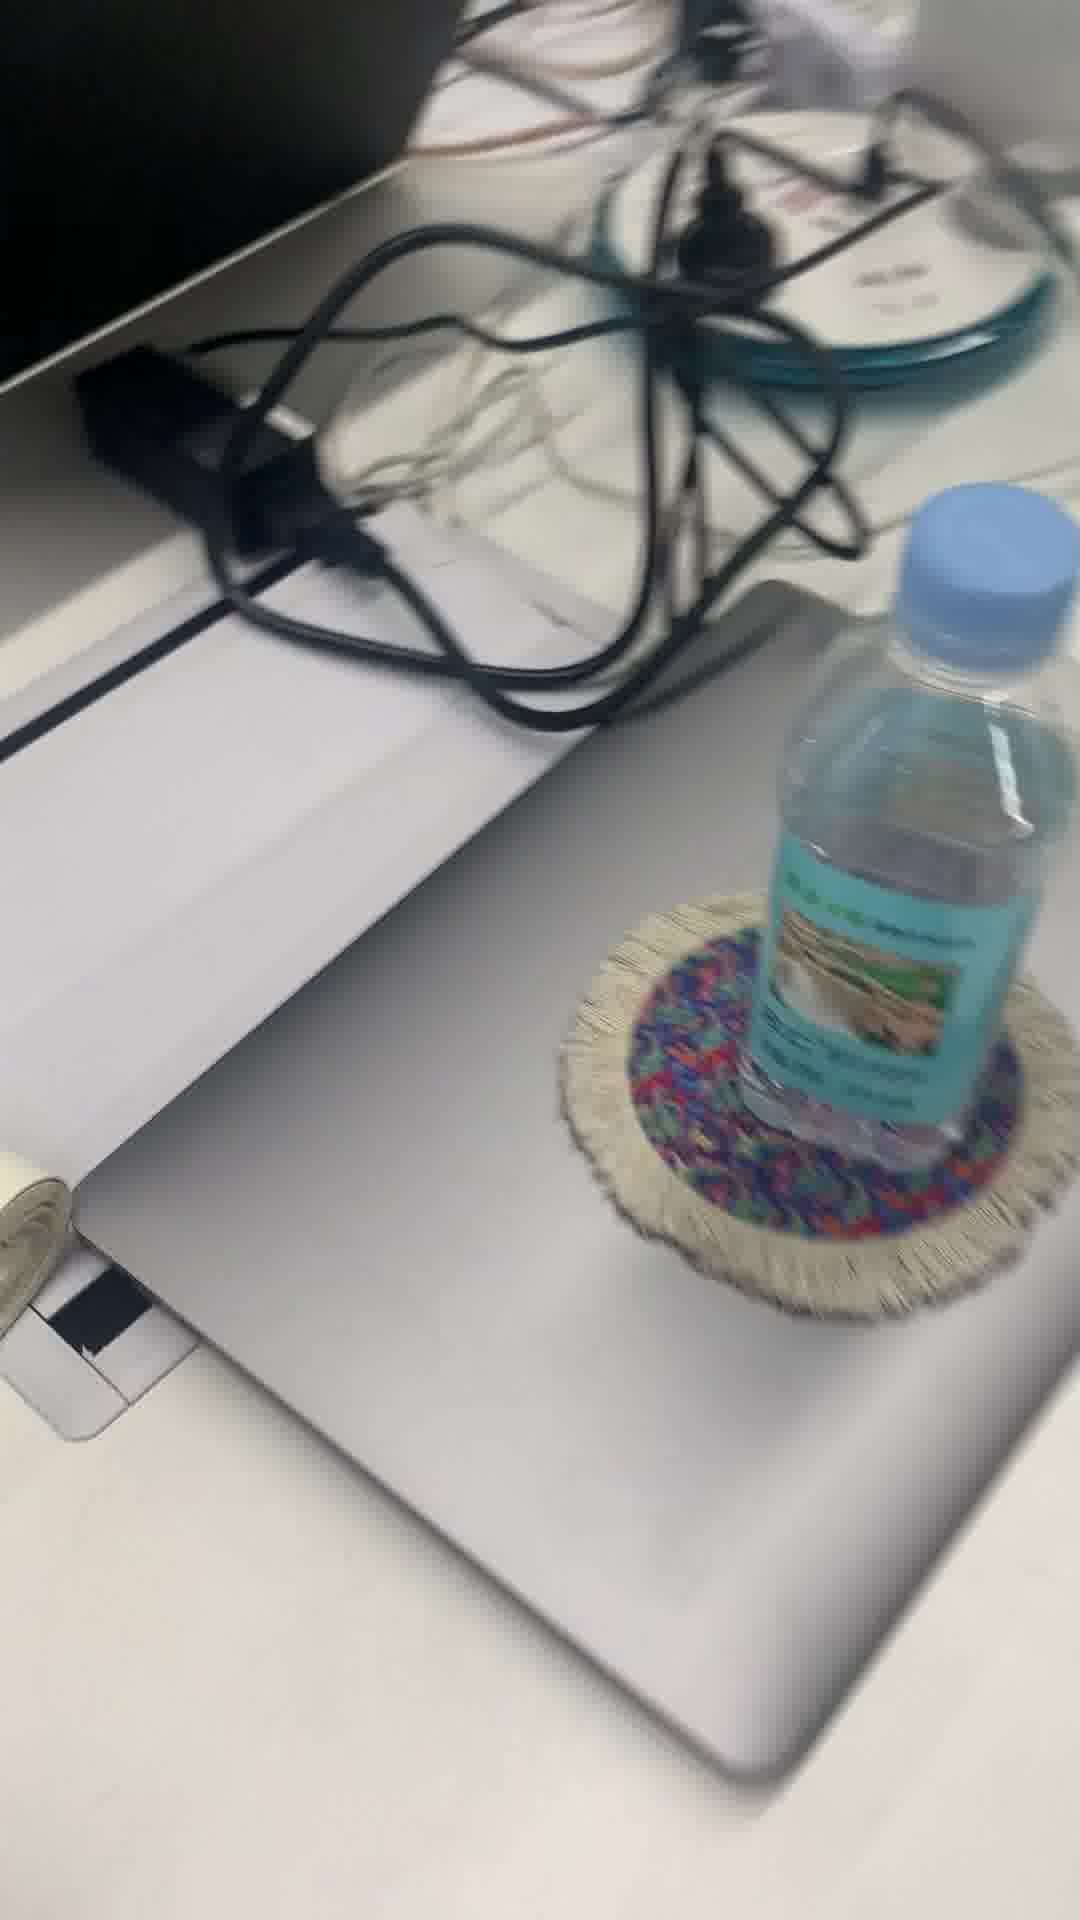水瓶: (744, 480, 1080, 1164)
